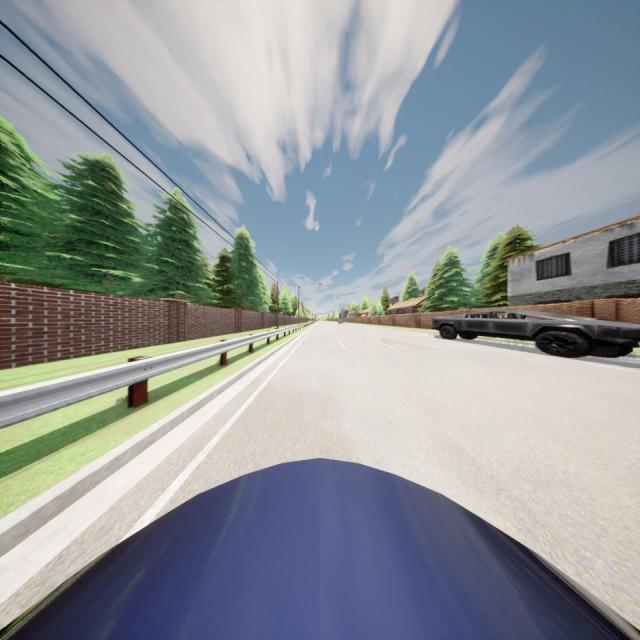Vehicle: (0, 459, 640, 640), (432, 308, 640, 356), (338, 320, 344, 324)
